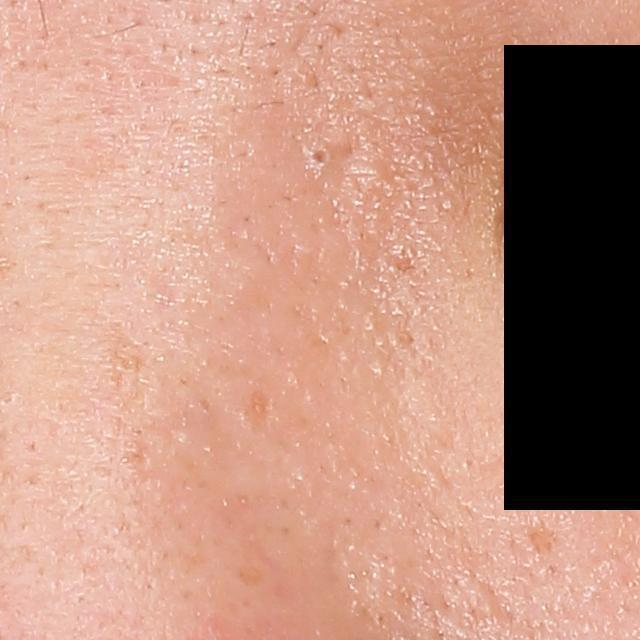comedo: (305, 133, 339, 178)
melasma: (521, 519, 560, 560), (245, 382, 275, 424)
